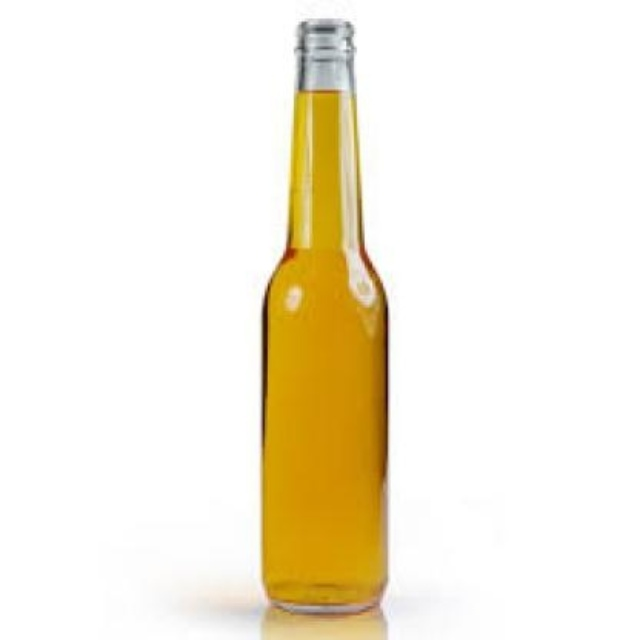trash: (262, 18, 386, 611)
